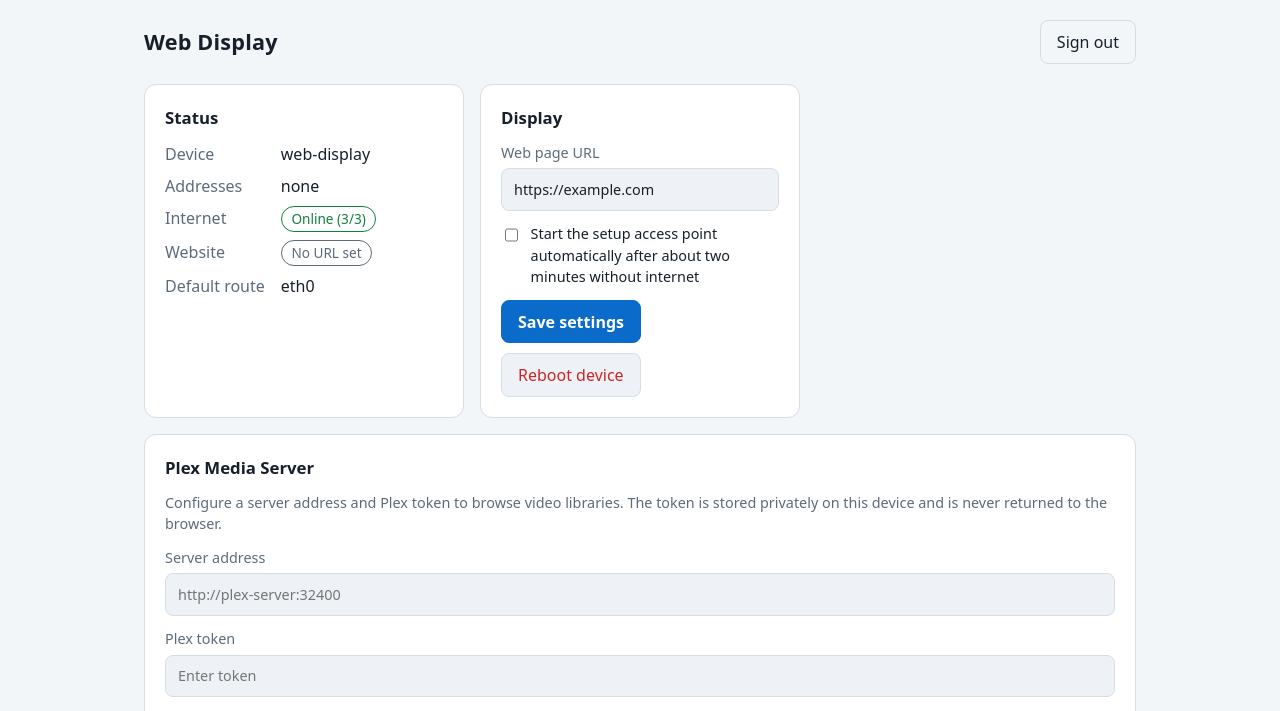
Test: exchanges a manager link once, clears the fragment and limits key management
The image size is (1280, 711).
Check: the field labelled "Web page URL" holds "https://example.com", box [501,168,779,211]
What coordinates should you click on to do the following:
click the button "Save settings"
I would click on:
 (571, 322)
Its box is [501,300,641,343].
(page scrolled)
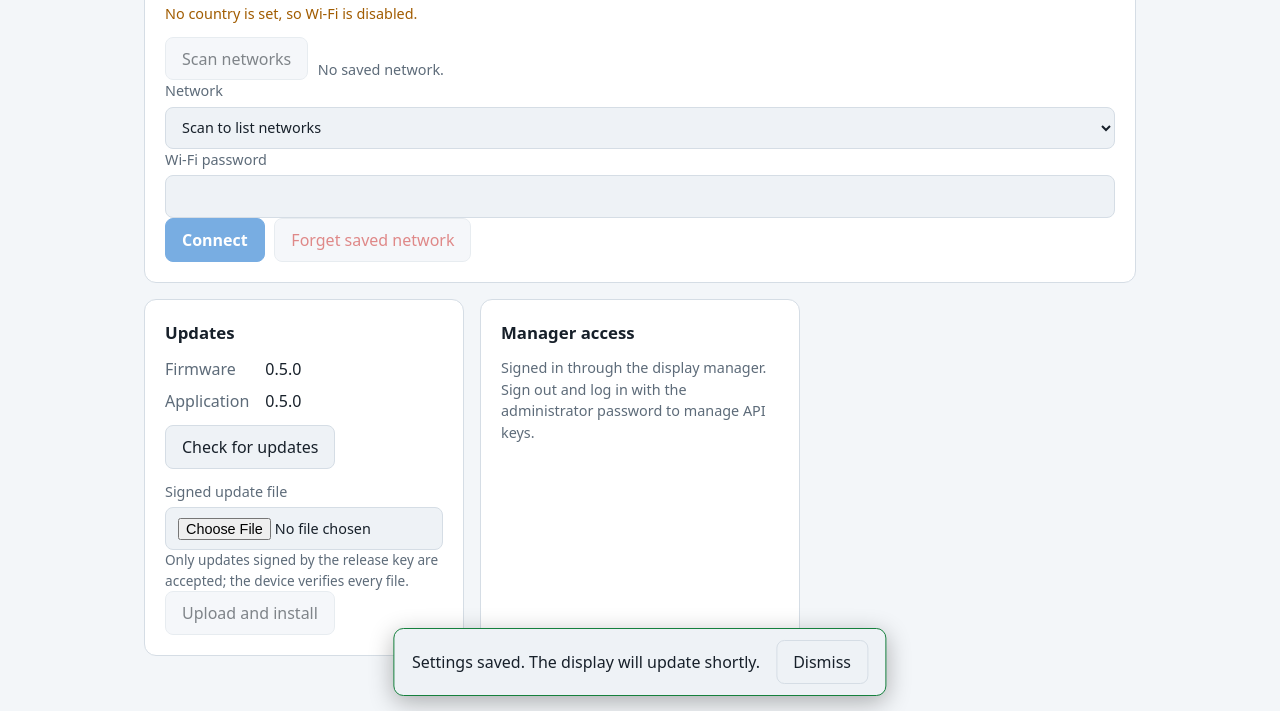
Check: the text "Signed in through the display manager" is shown, box [501,358,766,442]
Check: the text "Settings saved. The display will update shortly. Dismiss" is shown, box [393,628,887,696]
